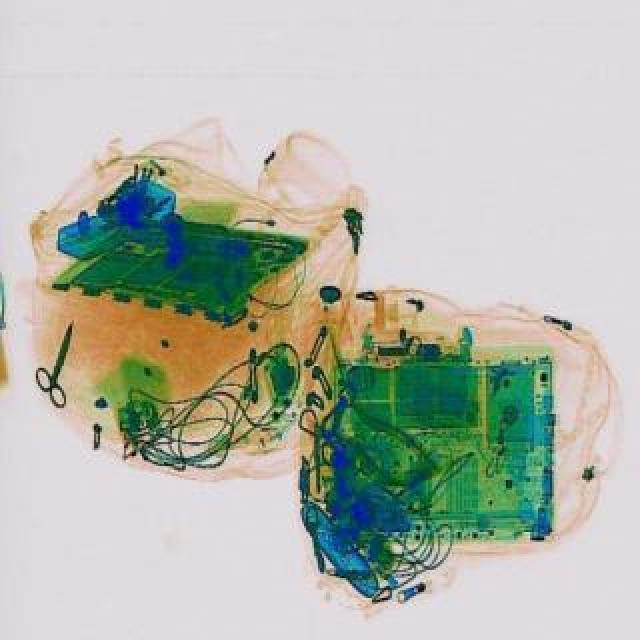pliers: (24, 314, 92, 408)
